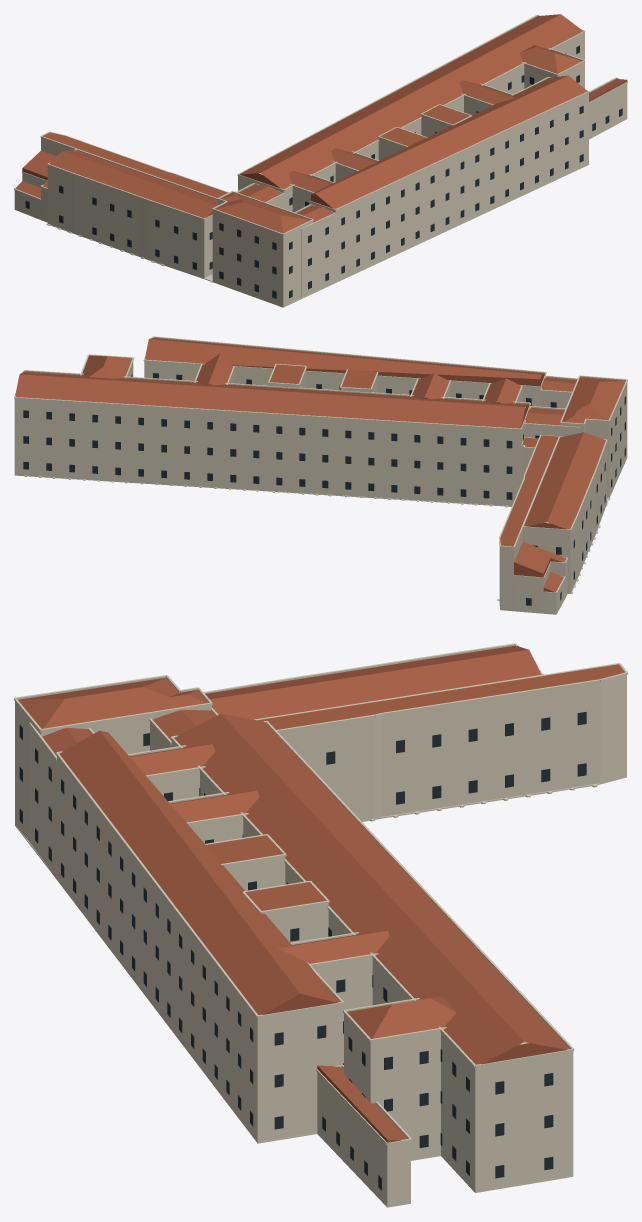
The model's file is correr.glb.
The picture shows the model from 3 angles, top to bottom: view 1: azimuth 30°, elevation 25°; view 2: azimuth 150°, elevation 25°; view 3: azimuth 270°, elevation 25°; orthographic projection. The views are drawn at different scales.
Visible parts, largest first — view 1: mapped-part, mapped-roof, cornice, window-rhythm, outline-foundation; view 2: mapped-part, mapped-roof, cornice, window-rhythm, outline-foundation; view 3: mapped-part, mapped-roof, cornice, window-rhythm, outline-foundation.
Part boxes in pixels (x1,y1,x2,y2): mapped-part: [14, 32, 627, 306]; mapped-roof: [15, 14, 627, 233]; cornice: [14, 15, 627, 235]; window-rhythm: [25, 45, 622, 298]; outline-foundation: [14, 118, 627, 307]; mapped-part: [14, 361, 627, 613]; mapped-roof: [15, 338, 625, 592]; cornice: [14, 336, 627, 593]; window-rhythm: [23, 373, 625, 605]; outline-foundation: [14, 458, 626, 614]; mapped-part: [15, 675, 626, 1207]; mapped-roof: [18, 645, 624, 1142]; cornice: [14, 643, 627, 1144]; window-rhythm: [19, 711, 586, 1190]; outline-foundation: [15, 776, 626, 1207].
Bounding box in the file's own units: 16 × 2.28 × 8.86.
